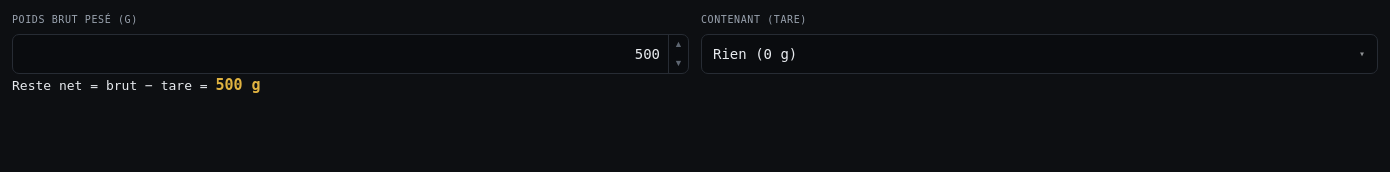
Test case: LeftoverFields container picker (B-027) › lists every container (incl. "Rien") and is not disabled
Click the button with test id "lo-container" at point(755, 54), box [701,34,1378,74]
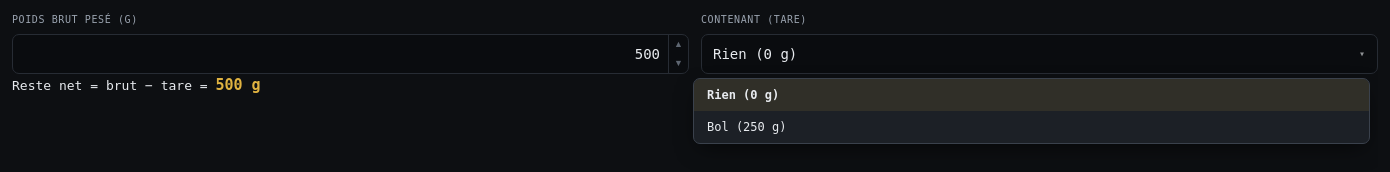
Expected: the options read "Rien (0 g)", "Bol (250 g)", in this order, [694,78,1369,110]; [694,110,1369,142]
